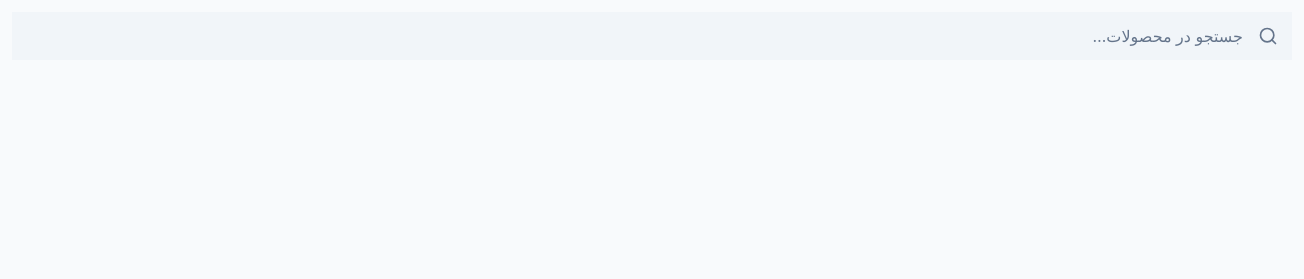
Test case: SuggestBox recent searches › searches a recent term again, from the keyboard or a click
This screenshot has width=1304, height=279.
Click the dropdown labelled "جستجو": click(652, 36) [12,12,1292,60]
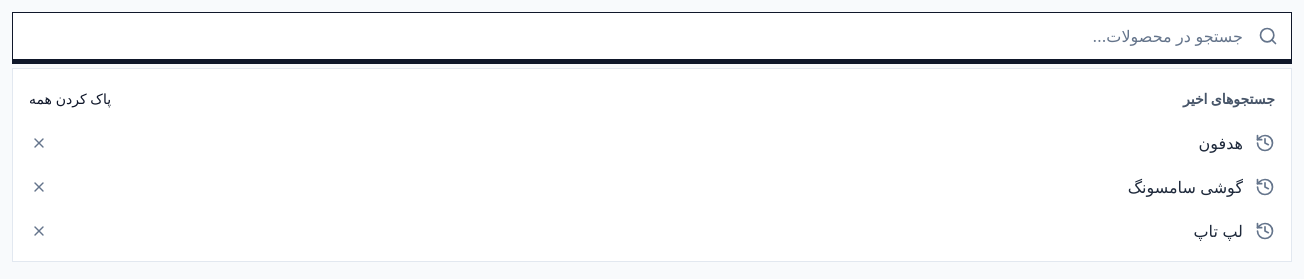
Press Arrowup Enter
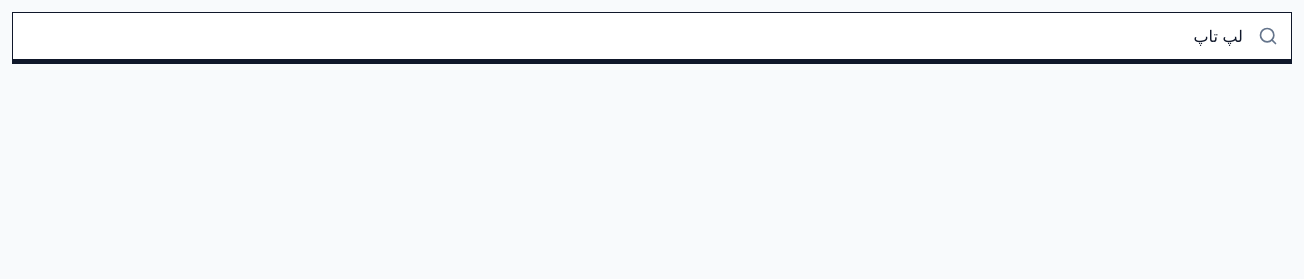
expect the dropdown named "جستجو" holds "لپ تاپ": met, box [12,12,1292,60]
